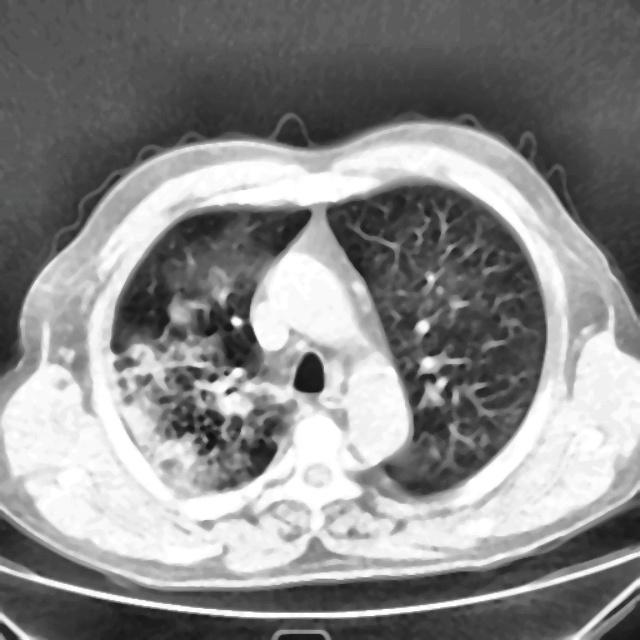covid: (0, 114, 639, 592)
